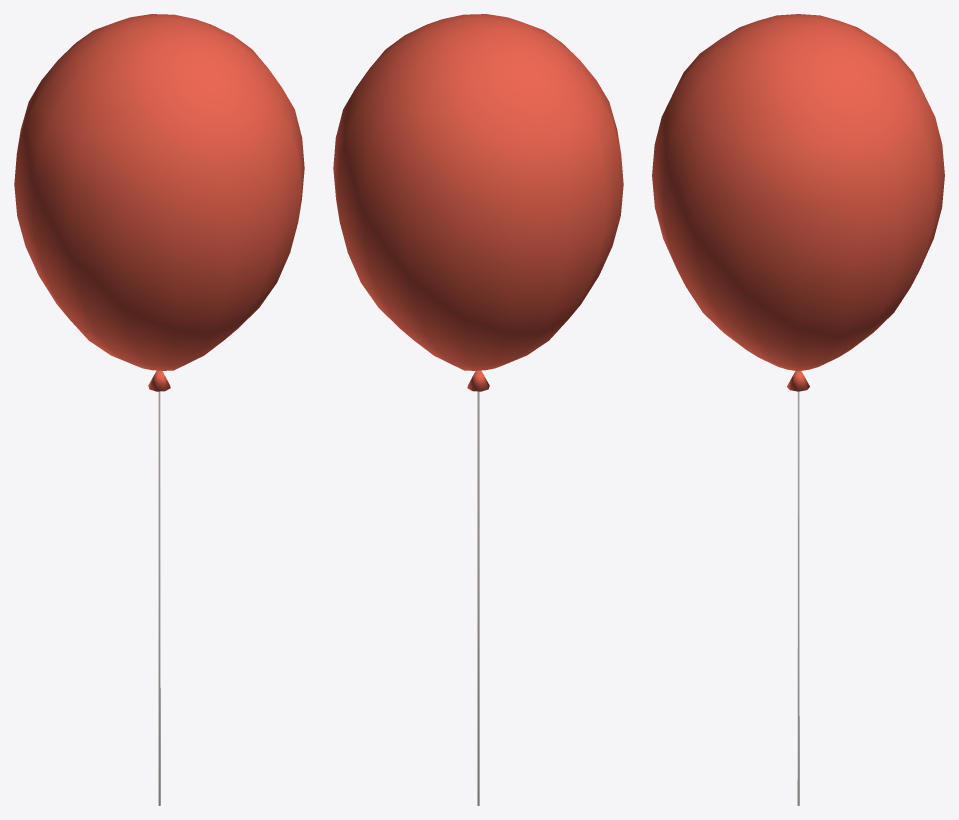
File: Light_RedBalloon.fbx
The picture shows the model from 3 angles, left to right: view 1: azimuth 30°, elevation 25°; view 2: azimuth 150°, elevation 25°; view 3: azimuth 270°, elevation 25°; orthographic projection.
Parts seen in each view (by area): view 1: balloon-light-yellow; view 2: balloon-light-yellow; view 3: balloon-light-yellow.
Part boxes in pixels (x1,y1,x2,y2): balloon-light-yellow: (14, 14, 304, 805); balloon-light-yellow: (333, 14, 623, 805); balloon-light-yellow: (652, 14, 944, 805).
Bounding box in the file's own units: 93.12 × 273 × 93.09.
Materials: 2 (2 with a texture image).
